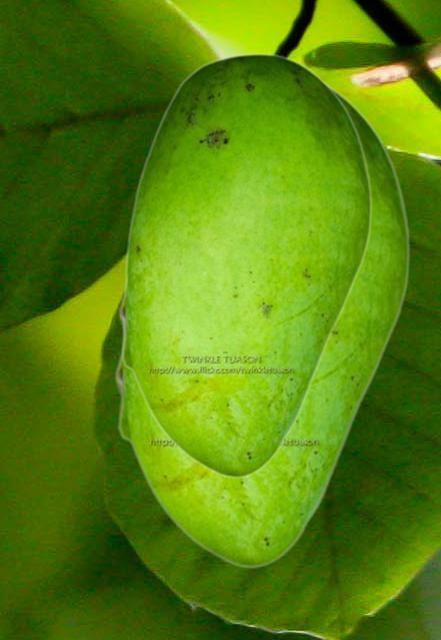green_mango: (114, 80, 410, 568), (118, 52, 372, 478)
